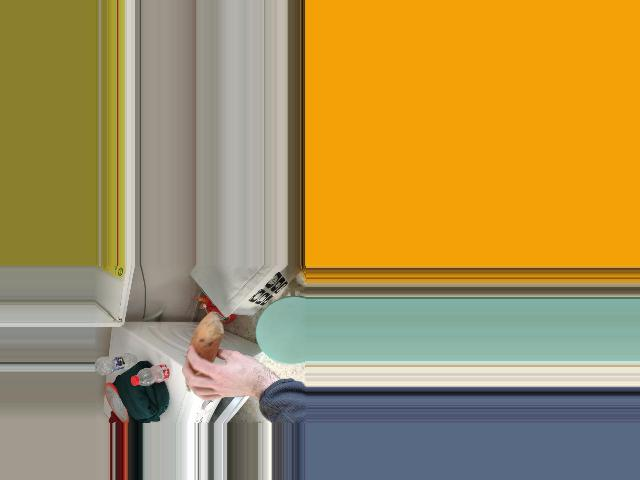sweet_potato: (184, 314, 221, 396)
